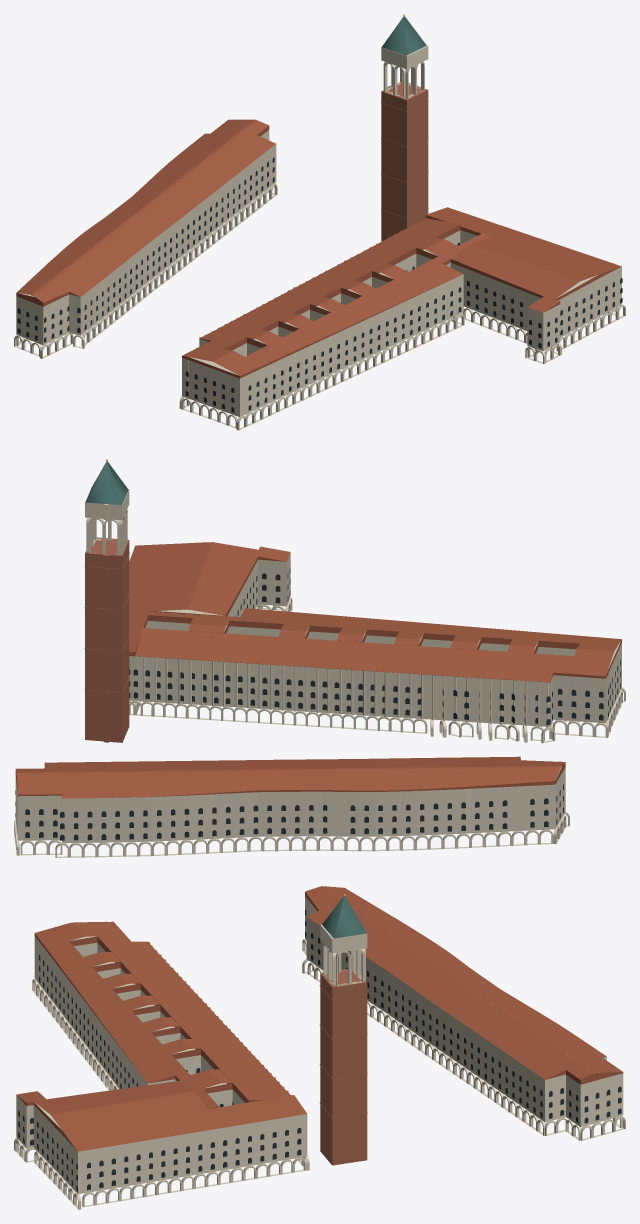
File: st-mark-square.glb
The picture shows the model from 3 angles, top to bottom: view 1: azimuth 30°, elevation 25°; view 2: azimuth 150°, elevation 25°; view 3: azimuth 270°, elevation 25°; orthographic projection. The views are drawn at different scales.
Parts seen in each view (by area): view 1: roof, procuratie-upper-storeys, procuratie-ground-arcades, tower, facade-windows, tower-pyramidal-spire, tower-belfry, tower-attic; view 2: roof, procuratie-upper-storeys, procuratie-ground-arcades, tower, facade-windows, tower-pyramidal-spire, tower-belfry, tower-attic; view 3: roof, procuratie-upper-storeys, tower, procuratie-ground-arcades, facade-windows, tower-belfry, tower-pyramidal-spire, tower-attic.
Boxes of the visible parts, x1=… form: roof: x1=16, y1=119, x2=621, y2=378; procuratie-upper-storeys: x1=16, y1=130, x2=621, y2=416; procuratie-ground-arcades: x1=14, y1=183, x2=625, y2=430; tower: x1=381, y1=82, x2=428, y2=241; facade-windows: x1=17, y1=157, x2=622, y2=412; tower-pyramidal-spire: x1=382, y1=16, x2=426, y2=55; tower-belfry: x1=383, y1=61, x2=424, y2=98; tower-attic: x1=381, y1=45, x2=428, y2=69; roof: x1=15, y1=542, x2=621, y2=798; procuratie-upper-storeys: x1=15, y1=552, x2=621, y2=843; procuratie-ground-arcades: x1=14, y1=598, x2=625, y2=857; tower: x1=85, y1=537, x2=129, y2=742; facade-windows: x1=15, y1=567, x2=620, y2=840; tower-pyramidal-spire: x1=85, y1=461, x2=128, y2=505; tower-belfry: x1=86, y1=509, x2=127, y2=555; tower-attic: x1=85, y1=486, x2=129, y2=520; roof: x1=16, y1=886, x2=623, y2=1151; procuratie-upper-storeys: x1=16, y1=896, x2=623, y2=1194; tower: x1=320, y1=969, x2=367, y2=1165; procuratie-ground-arcades: x1=14, y1=939, x2=625, y2=1209; facade-windows: x1=18, y1=909, x2=621, y2=1191; tower-belfry: x1=323, y1=943, x2=365, y2=986; tower-pyramidal-spire: x1=322, y1=895, x2=366, y2=938; tower-attic: x1=320, y1=924, x2=367, y2=953.
Bounding box in the file's own units: 16 × 7.41 × 15.69.
